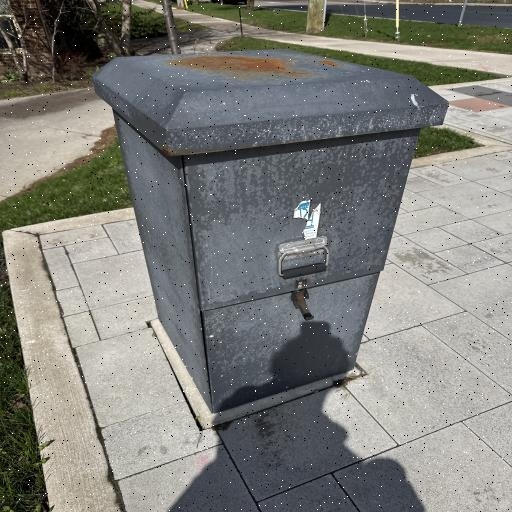Electrical Box: (96, 47, 446, 411)
